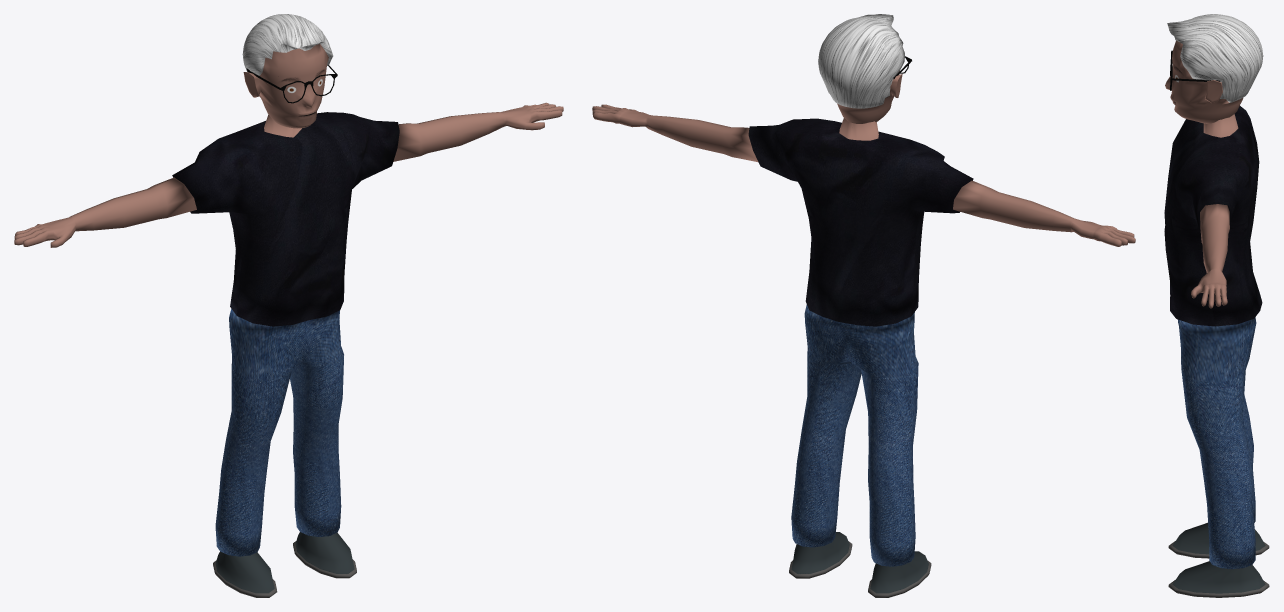
The model's file is blairUnited.fbx.
3 views of the same model, side by side, from view 1: azimuth 30°, elevation 25°; view 2: azimuth 150°, elevation 25°; view 3: azimuth 270°, elevation 25° (orthographic).
Visible parts, largest first — view 1: Torus.001; view 2: Torus.001; view 3: Torus.001.
Part boxes in pixels (bbox=[...]): Torus.001: bbox=[14, 14, 563, 597]; Torus.001: bbox=[592, 14, 1135, 597]; Torus.001: bbox=[1164, 14, 1269, 597].
Bounding box in the file's own units: 168 × 162 × 27.95.
